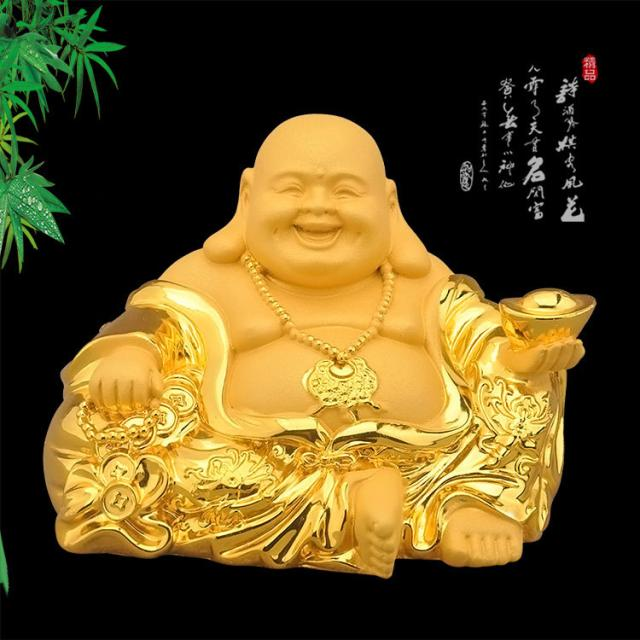Smiling Buddha: (142, 108, 479, 515)
